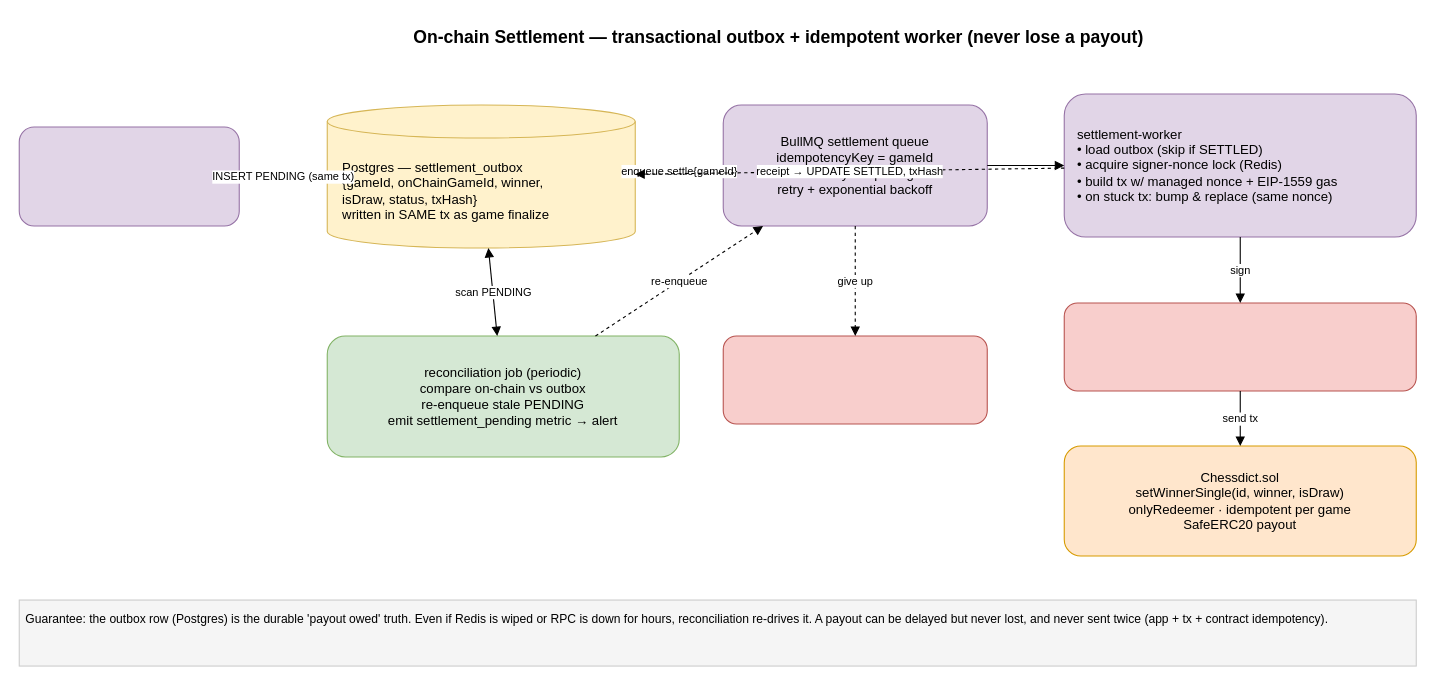
Some shapes in this 1436 by 685 pixel diagram are drawn without their labels. The shapes that lost their labels are listed below. From the top down, each one's box as (x1, y1, x2, y2) in pixels, then its label:
(18, 126, 239, 226): game-engine-svc staked game ends, winner known
(1063, 302, 1416, 391): Signer / redeemer key in KMS / secrets manager (NOT on web or gateway)
(722, 335, 987, 424): DEAD_LETTER + page on-call (after N failed retries)
